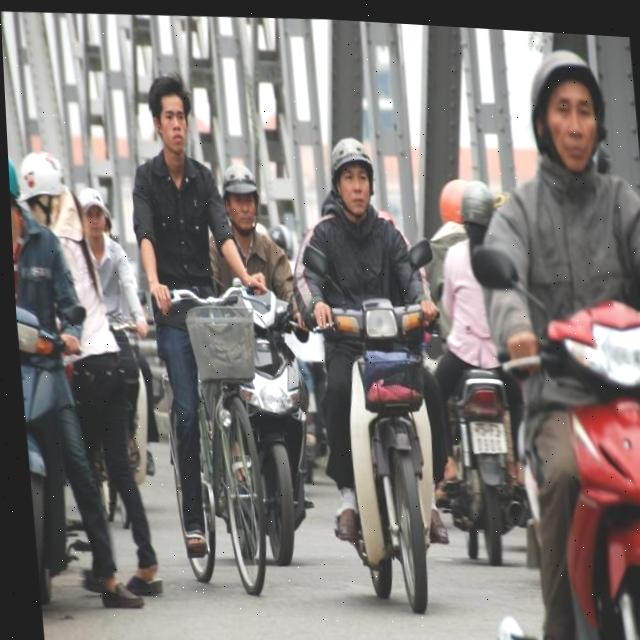motorcycle: (171, 257, 337, 614), (322, 266, 458, 624), (510, 278, 640, 640), (15, 280, 146, 626), (425, 346, 550, 583)
plate: (462, 414, 516, 462)
